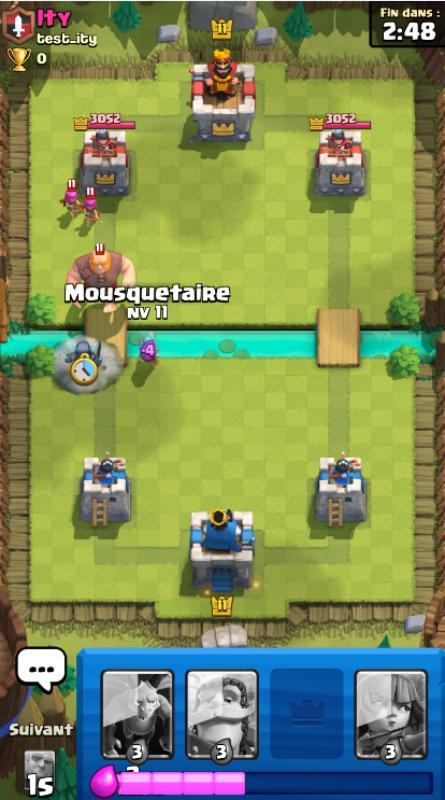archere: (79, 187, 104, 228), (59, 179, 84, 219)
geant: (65, 243, 136, 313)
mini_PEKKA: (66, 340, 103, 371)
mousquetaire: (138, 330, 161, 371)
